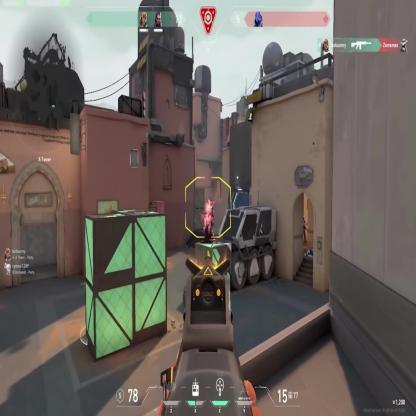enemy: (204, 204, 214, 235), (300, 216, 306, 243)
enemy_head: (206, 204, 211, 214)
